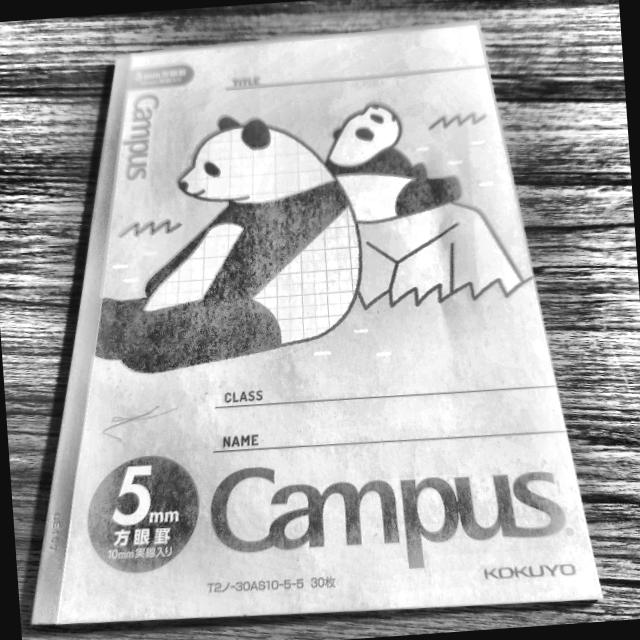Notebook: (21, 15, 614, 635)
